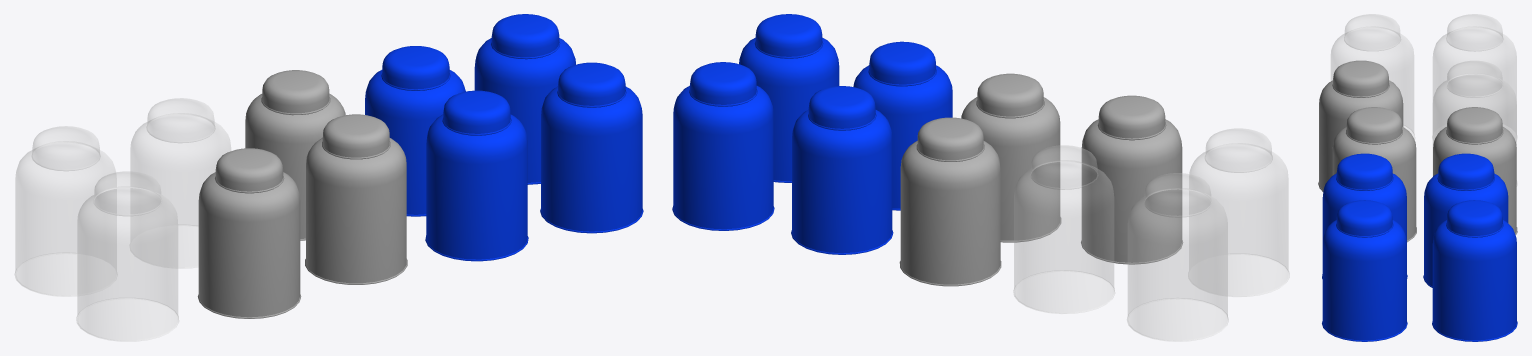
The model's file is Teabox_l5w9ll_Pack01.fbx.
3 renders of one model, left to right at view 1: azimuth 30°, elevation 25°; view 2: azimuth 150°, elevation 25°; view 3: azimuth 270°, elevation 25°, orthographic. The views are drawn at different scales.
Parts seen in each view (by area): view 1: Teabox_l5w9ll_Pack01; view 2: Teabox_l5w9ll_Pack01; view 3: Teabox_l5w9ll_Pack01.
Part boxes in pixels (box(x1,y1,x2,y2)): Teabox_l5w9ll_Pack01: box(14, 14, 643, 341); Teabox_l5w9ll_Pack01: box(672, 14, 1289, 341); Teabox_l5w9ll_Pack01: box(1318, 14, 1517, 341).
Size of the model in its own units: 95.62 by 23.07 by 36.28.
